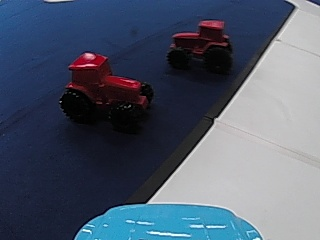tractor: (59, 48, 147, 126), (165, 17, 233, 72)
